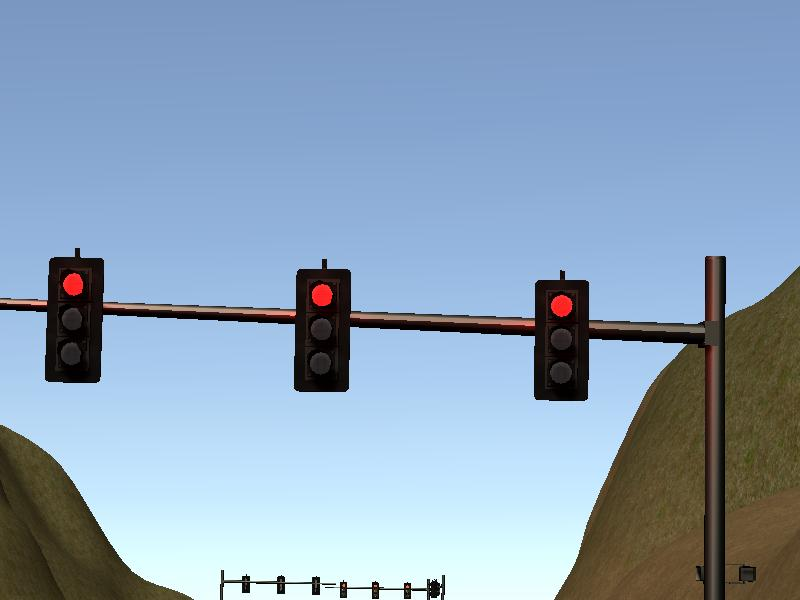Red: (46, 257, 101, 381), (536, 279, 588, 401), (298, 268, 347, 391)
